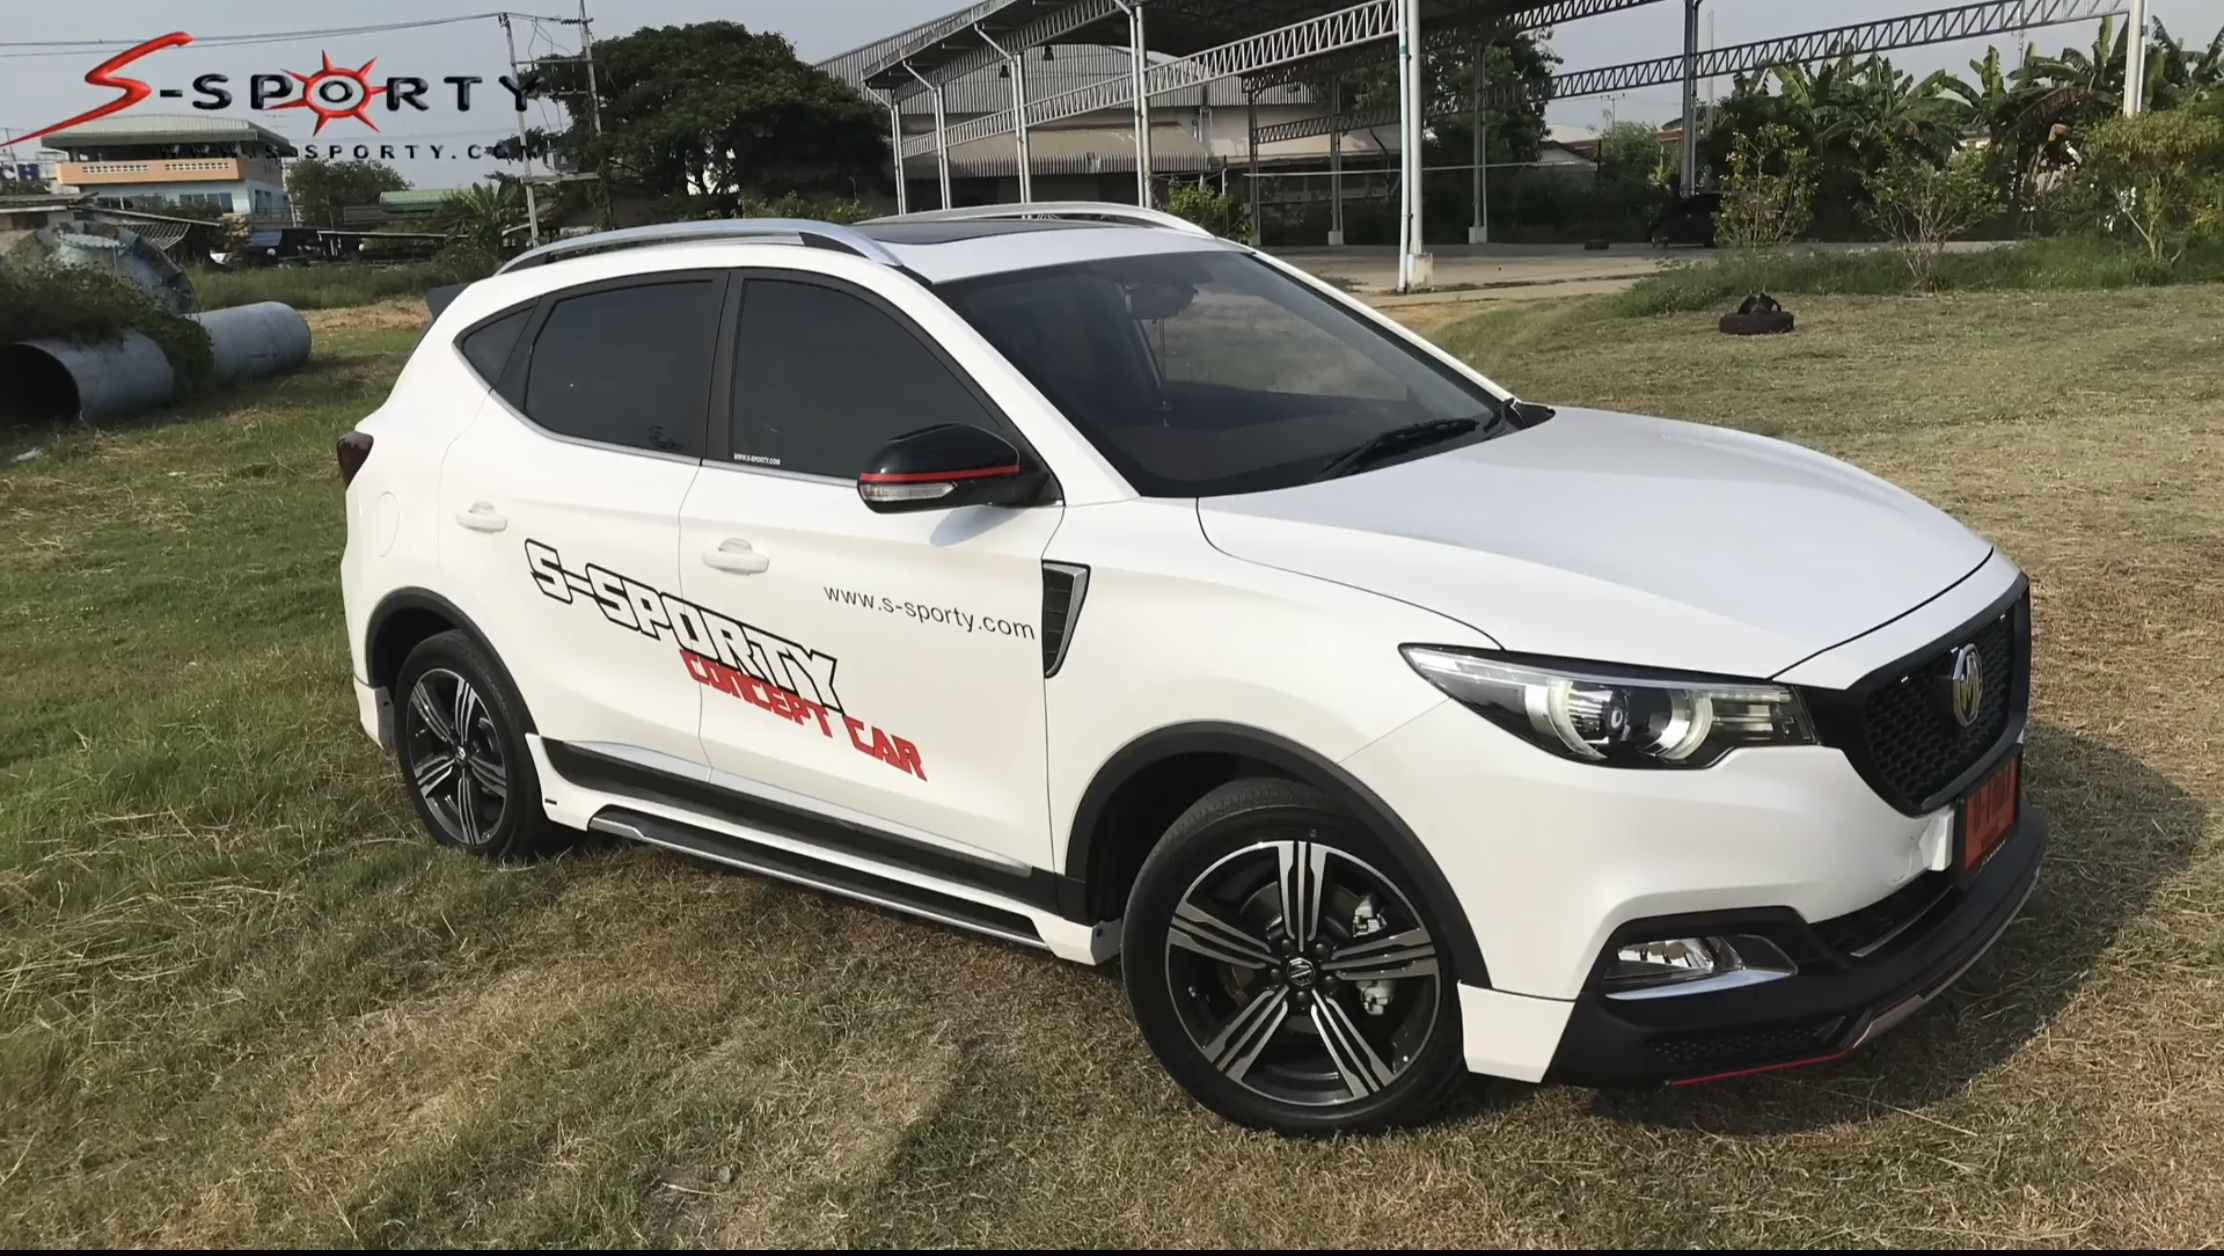pickup: (338, 194, 2051, 1135)
